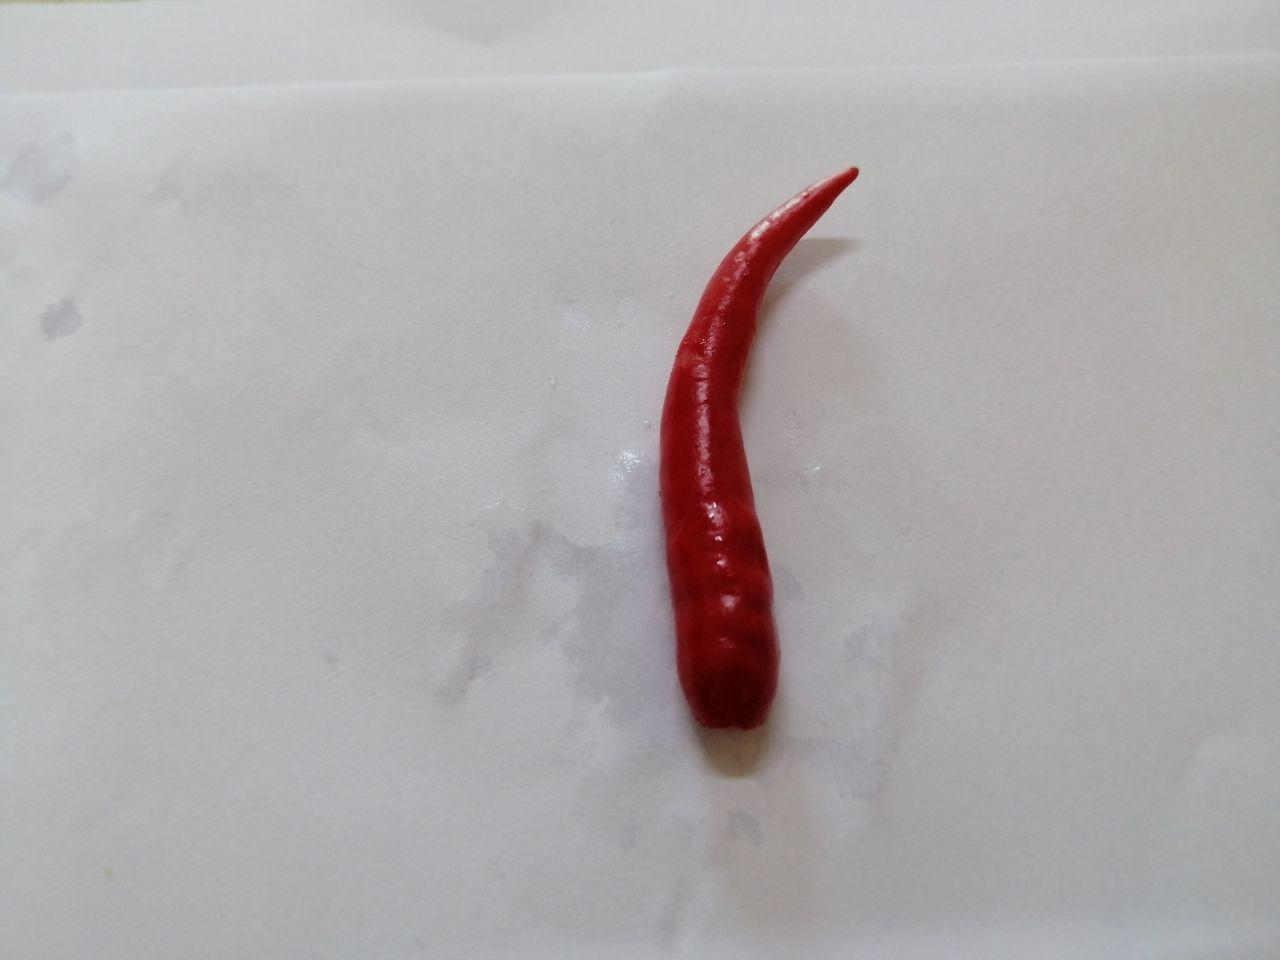lada merah: (625, 150, 902, 743)
